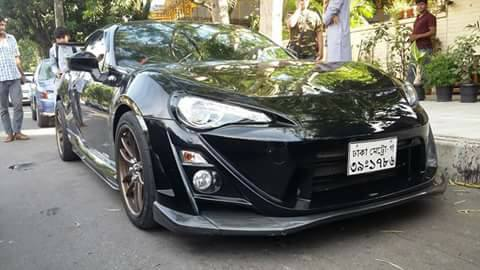registration_plate: (347, 136, 398, 177)
